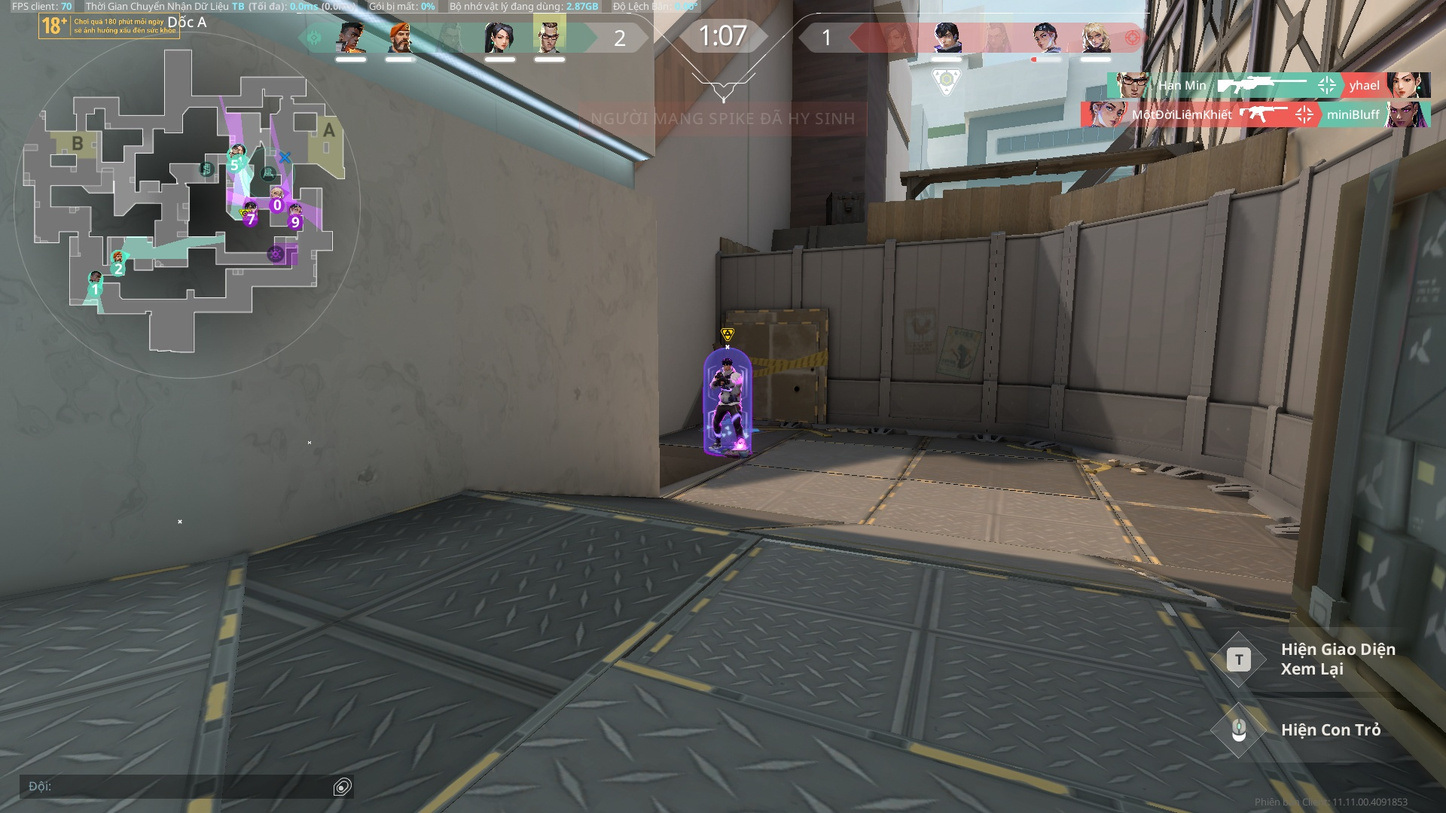body: (713, 369, 743, 403)
head: (721, 357, 732, 370)
